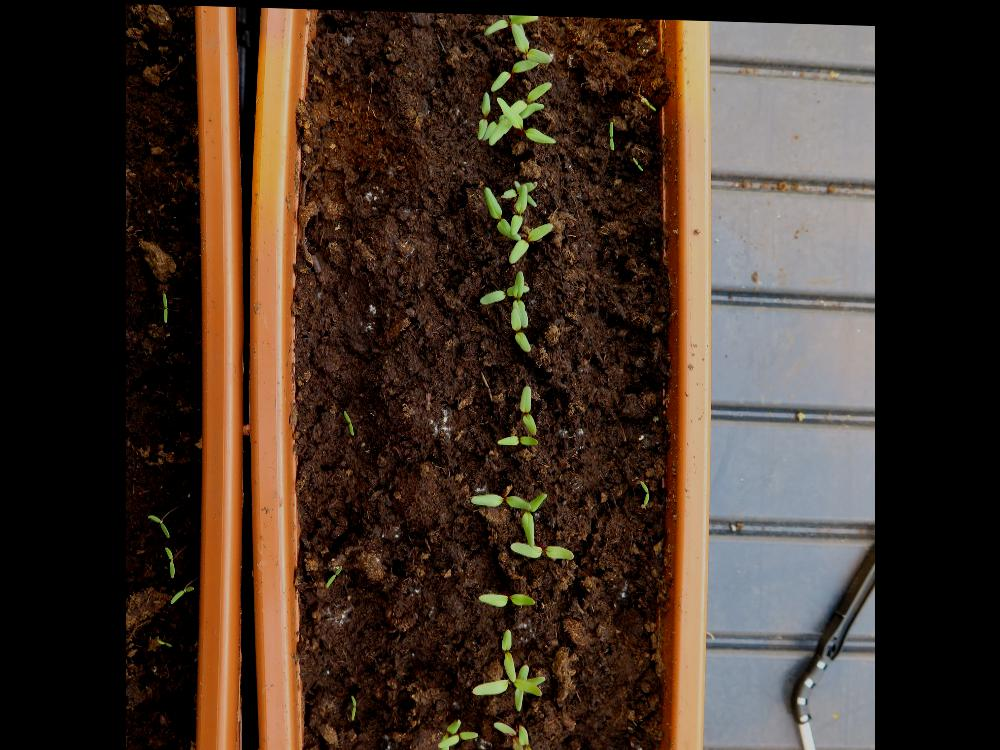crop: (478, 586, 538, 604), (520, 380, 539, 431), (496, 431, 540, 443)
weed: (145, 511, 172, 537), (168, 583, 197, 604), (324, 560, 344, 585), (163, 545, 177, 577), (342, 406, 356, 433), (638, 474, 651, 502), (161, 290, 171, 321), (349, 691, 360, 718), (609, 114, 617, 146), (631, 151, 645, 167), (644, 92, 657, 105)
